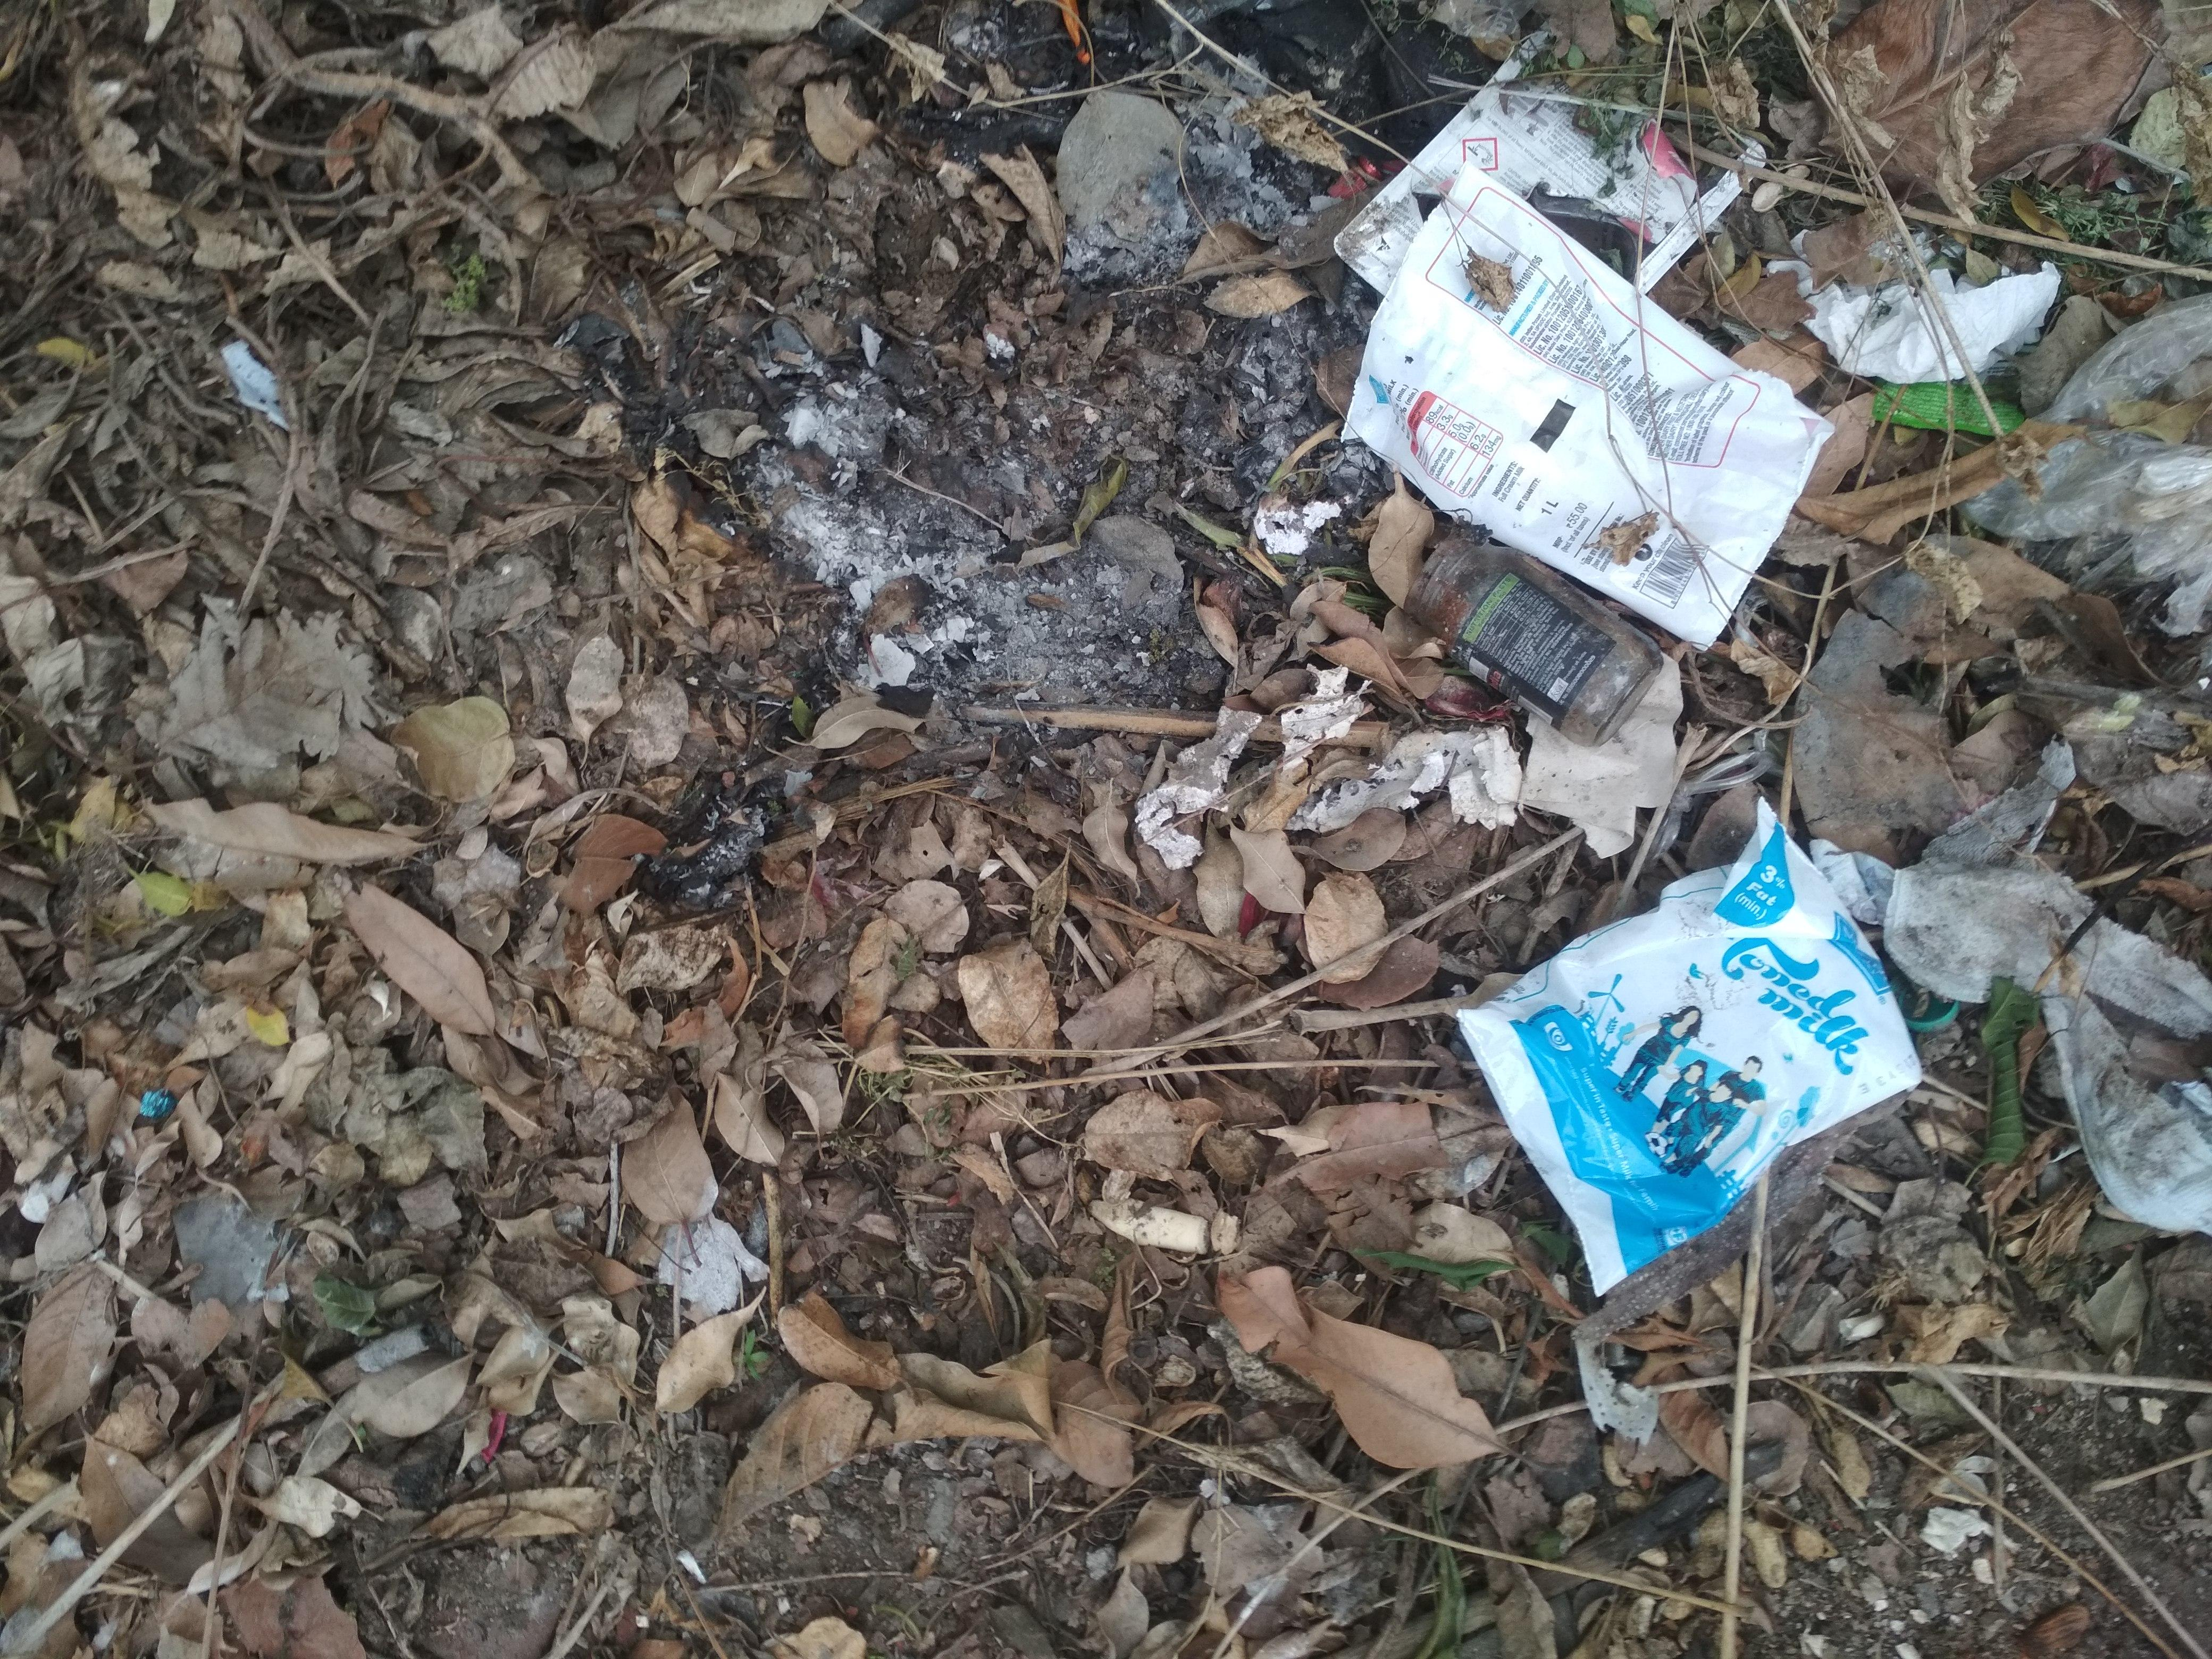trash: (1327, 3, 2212, 1310)
